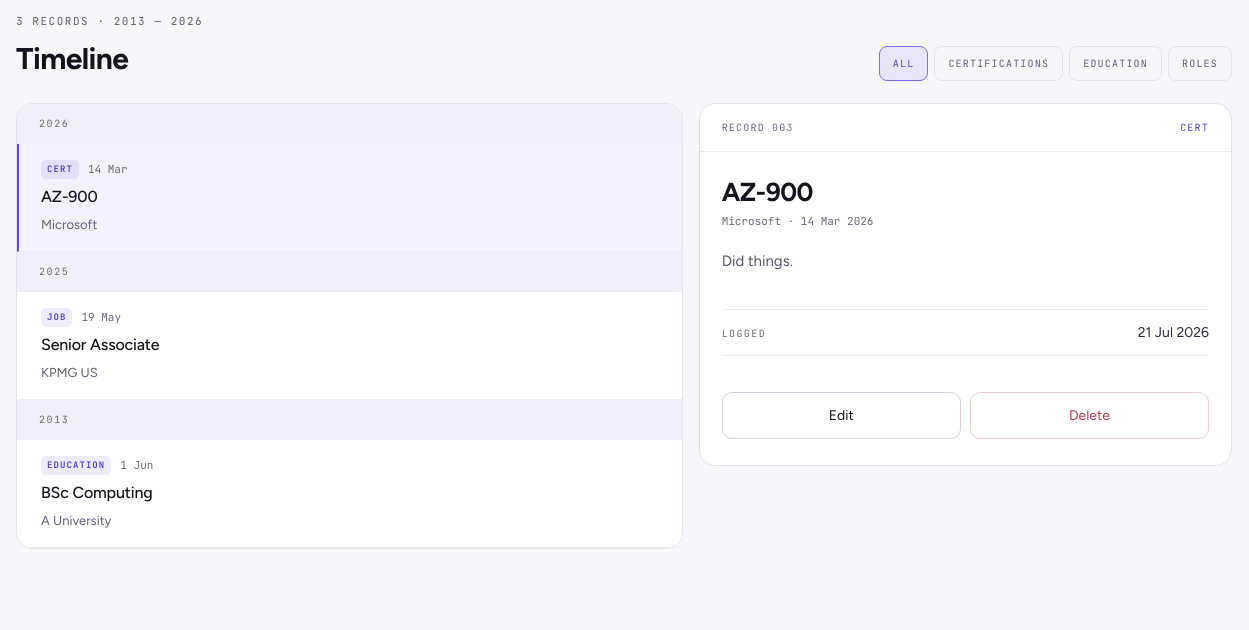
Scenario: slice 2 review regressions › an edited title shows immediately rather than reverting until the refetch
The image size is (1249, 630).
Click the button "Edit".
click(841, 416)  # box x1=722 y1=392 x2=961 y2=439
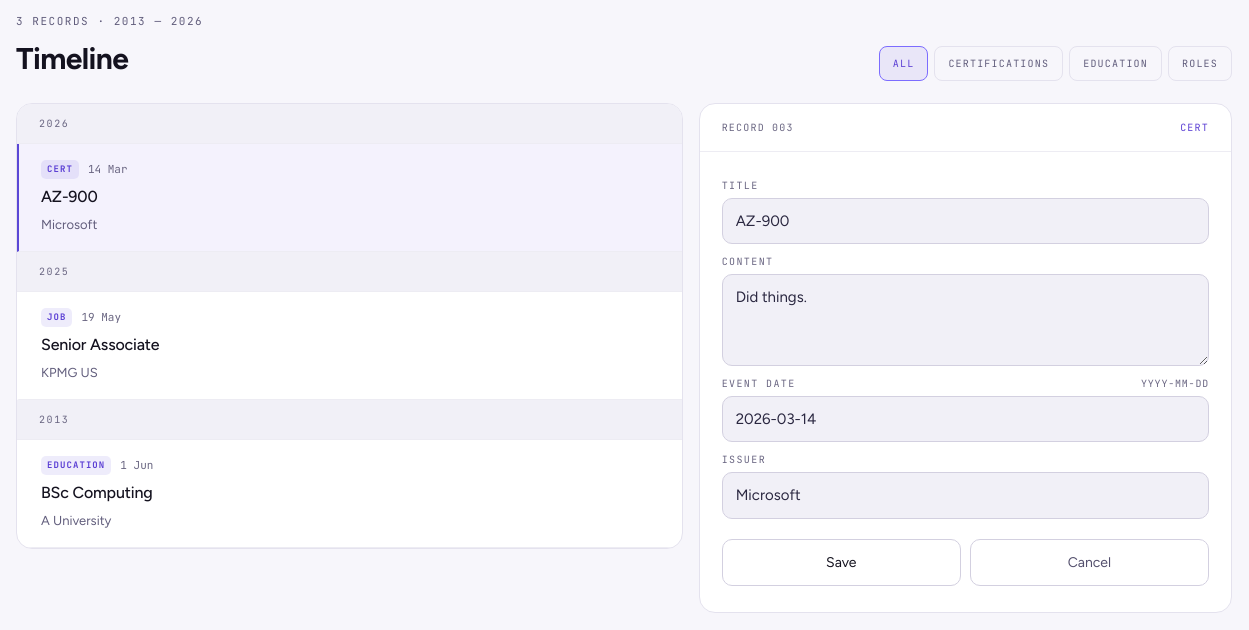
Replace the text in the field showing "AZ-900" with "AZ-900 (renewed)" at point(965, 221), box x1=722 y1=198 x2=1209 y2=244
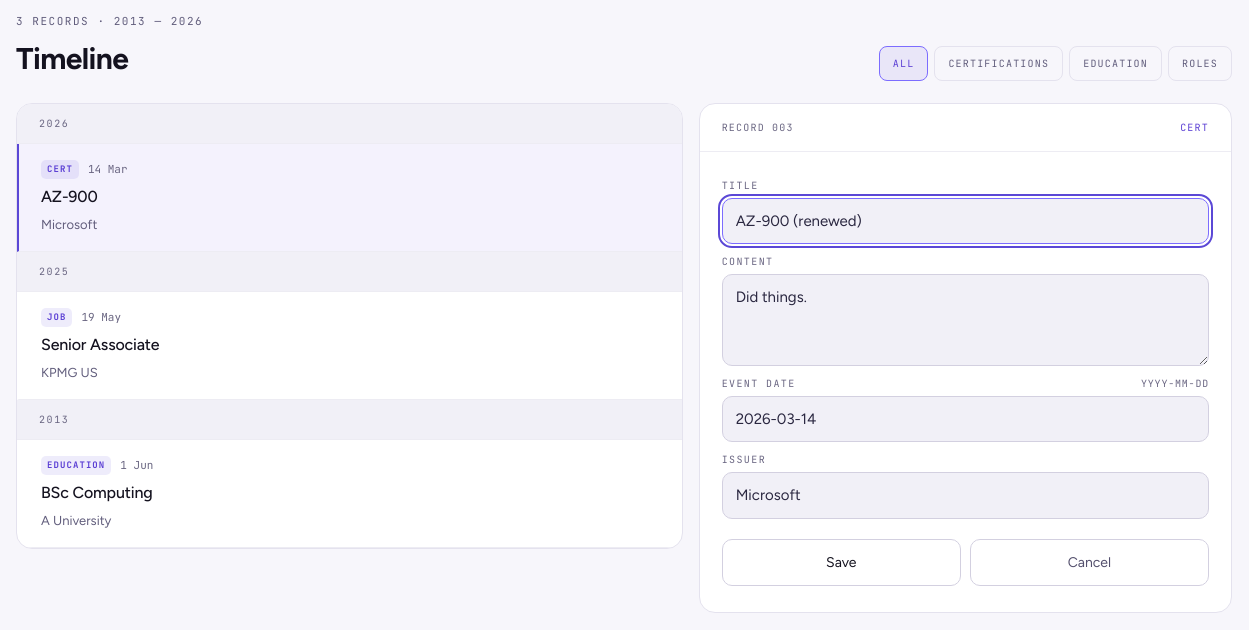
Click the button "Save".
click(841, 562)  # box x1=722 y1=538 x2=961 y2=586
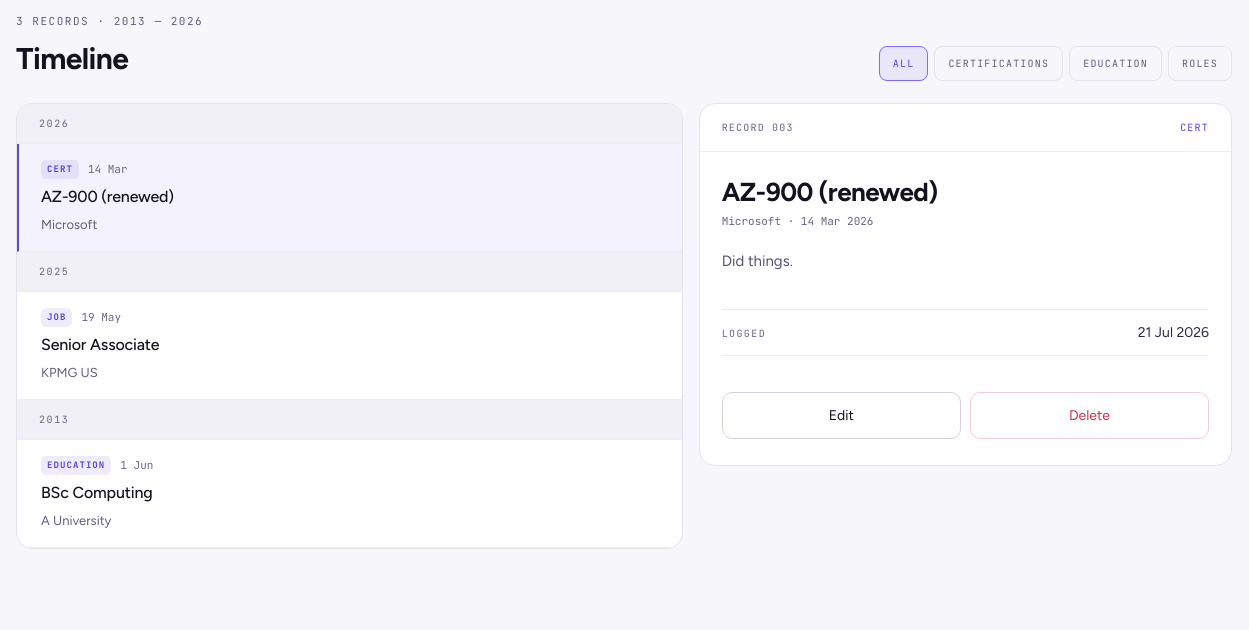
Now the button "CERT 14 Mar AZ-900 (renewed) Microsoft" is shown, box x1=17 y1=144 x2=682 y2=252
